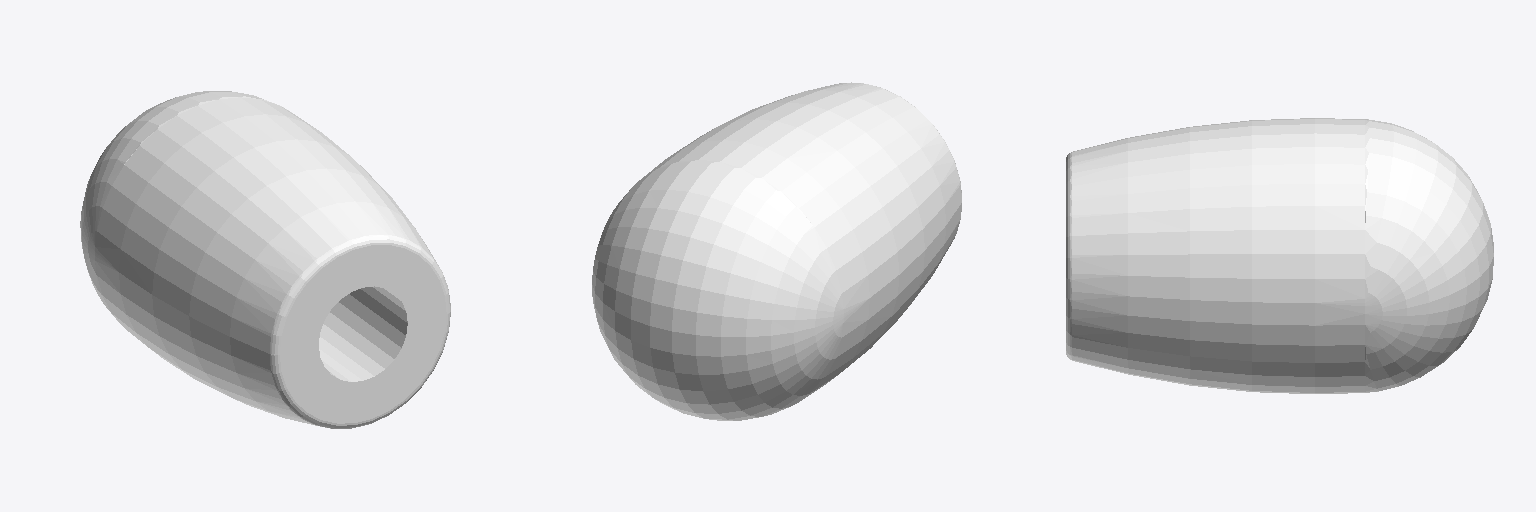
3 renders of one model, left to right at view 1: azimuth 30°, elevation 25°; view 2: azimuth 150°, elevation 25°; view 3: azimuth 270°, elevation 25°, orthographic.
Visible parts, largest first — view 1: gn_719_2-16-b6-cl_1; view 2: gn_719_2-16-b6-cl_1; view 3: gn_719_2-16-b6-cl_1.
Part boxes in pixels (x1,y1,x2,y2): gn_719_2-16-b6-cl_1: (80,91,450,428); gn_719_2-16-b6-cl_1: (592,82,961,420); gn_719_2-16-b6-cl_1: (1066,118,1493,393).
Bounding box in the file's own units: 16.11 × 16.12 × 24.96.